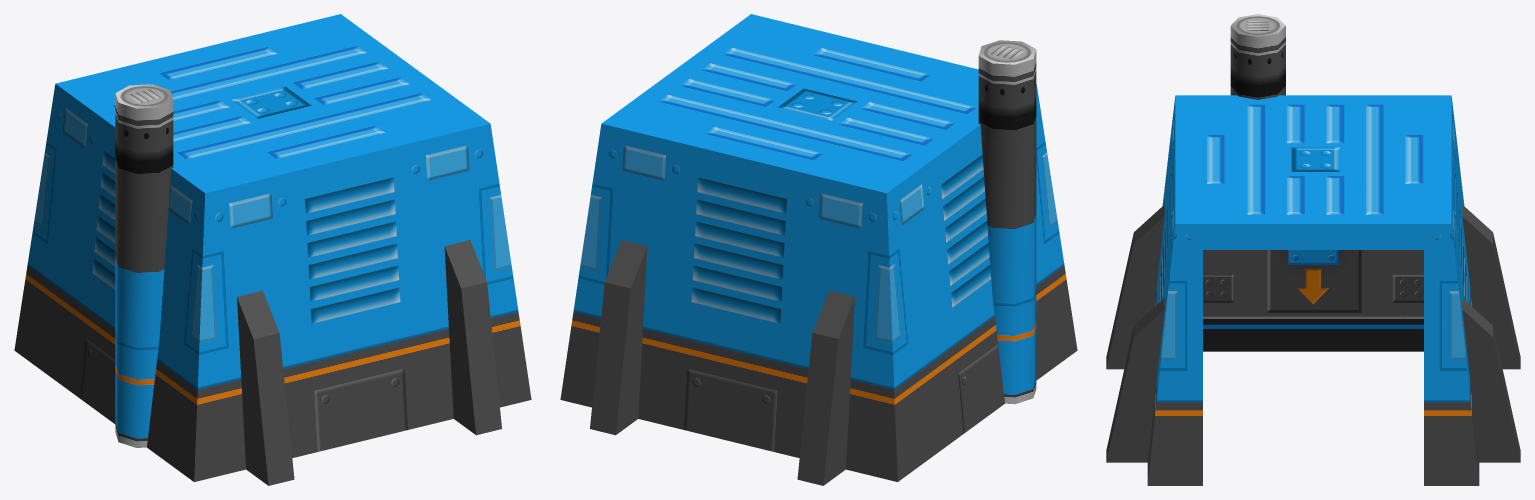
The model's file is factory1x.gltf.
3 views of the same model, side by side, from view 1: azimuth 30°, elevation 25°; view 2: azimuth 150°, elevation 25°; view 3: azimuth 270°, elevation 25° (orthographic). The views are drawn at different scales.
Visible parts, largest first — view 1: factory1x; view 2: factory1x; view 3: factory1x.
Part boxes in pixels (x1,y1,x2,y2): factory1x: [14, 14, 531, 485]; factory1x: [560, 14, 1077, 485]; factory1x: [1106, 14, 1520, 485].
Bounding box in the file's own units: 27.22 × 25 × 30.
